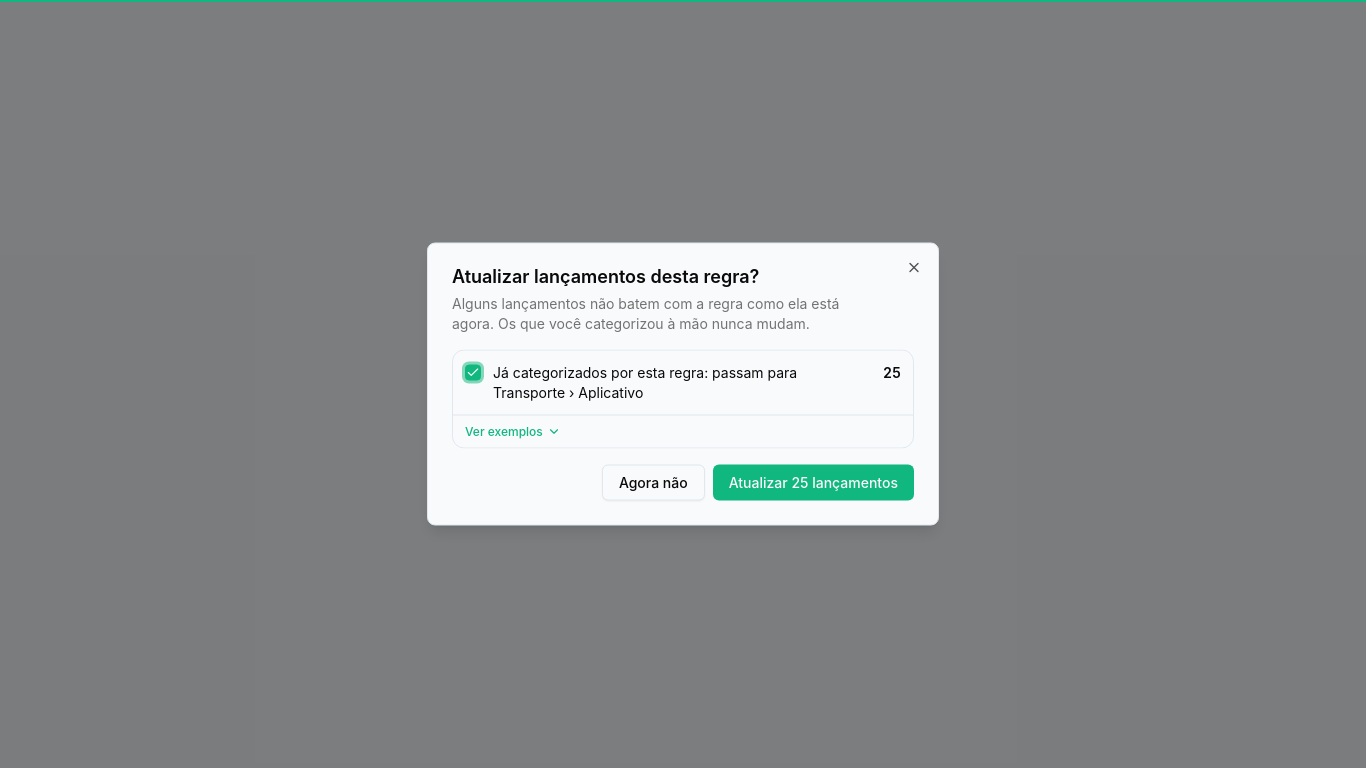
Scenario: ReconcileRuleDialog › a amostra abre com "atual → nova", e o botão de exemplos aponta para o grupo
This screenshot has width=1366, height=768.
Check: the text "Corrida teste" is not shown
Click the button "Ver exemplos". click: (504, 431)
box: [453,414,913,448]
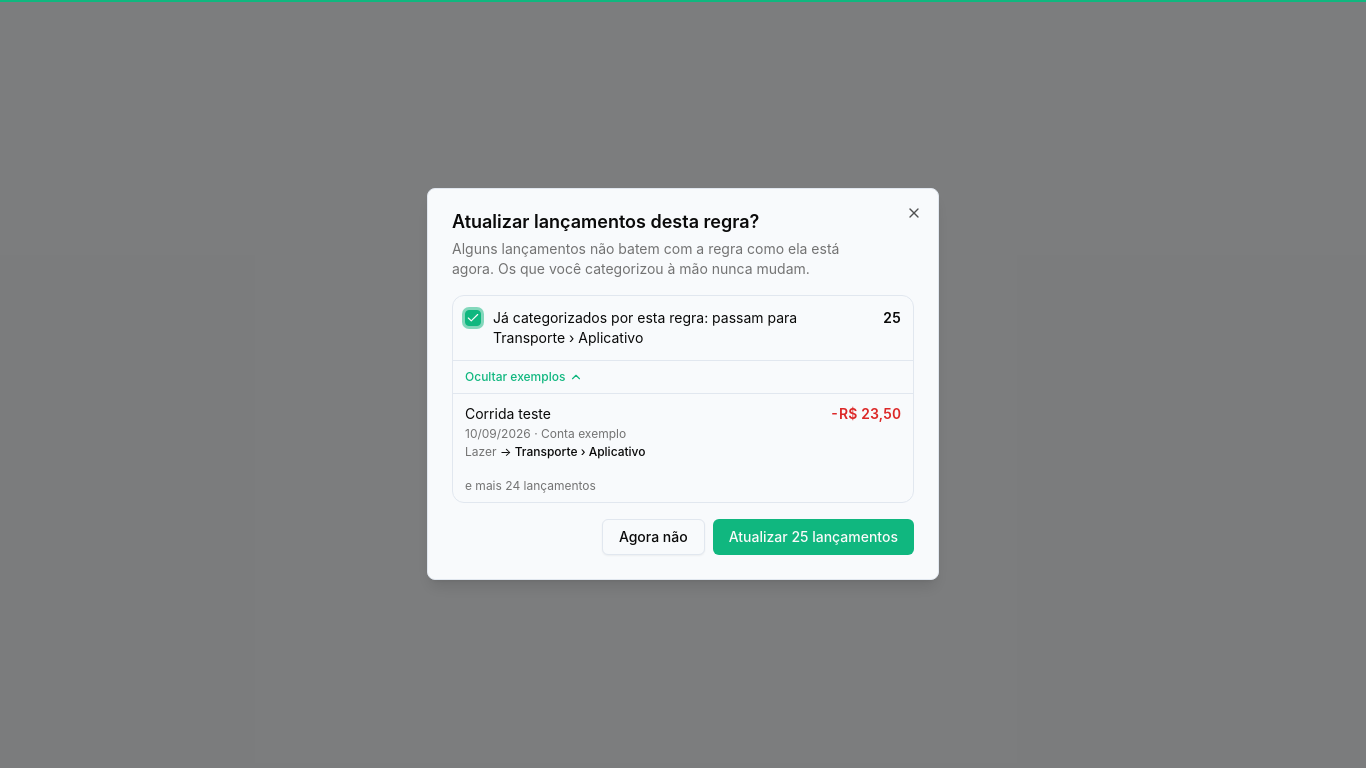
Check: the text "Corrida teste" is shown, box [465,405,551,422]
Check: the text "Lazer" is shown, box [465,444,496,459]
Check: the text "Transporte › Aplicativo" is shown, box [515,444,646,459]
